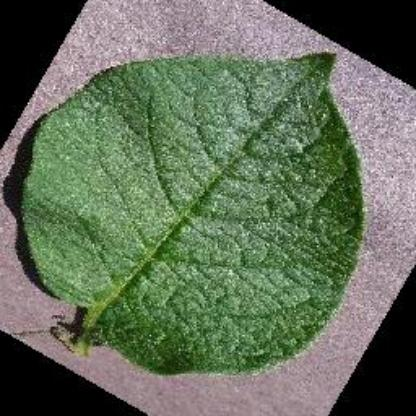Healthy-plant: (7, 32, 388, 396)
